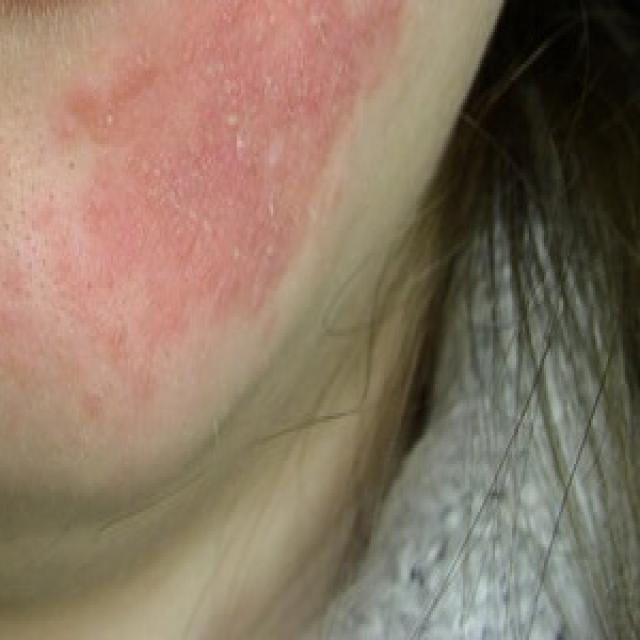Rosacea: (25, 0, 410, 332)
